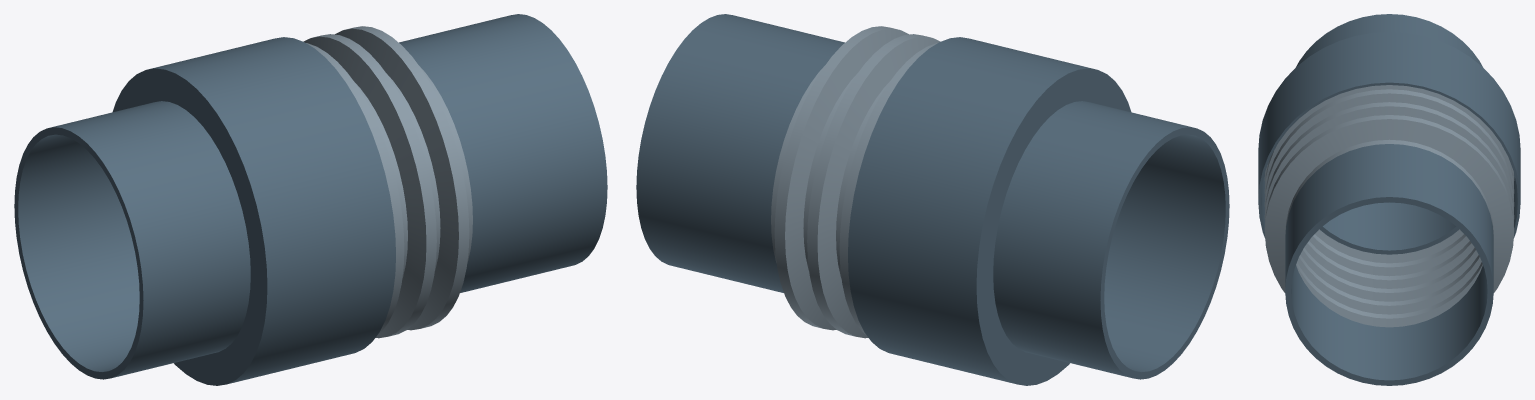
File: silf-dn150-L330-D159-k.glb
3 views of the same model, side by side, from view 1: azimuth 30°, elevation 25°; view 2: azimuth 150°, elevation 25°; view 3: azimuth 270°, elevation 25° (orthographic). The views are drawn at different scales.
Parts seen in each view (by area): view 1: patrubok_1, osnovanie_kozhuh_1, patrubok_2, prokladka_silfon_1; view 2: patrubok_1, osnovanie_kozhuh_1, patrubok_2, prokladka_silfon_1; view 3: prokladka_silfon_1, patrubok_2, osnovanie_kozhuh_1, patrubok_1.
Boxes of the visible parts, box(x1,y1,x2,y2) form: patrubok_1: box(14, 101, 250, 379); osnovanie_kozhuh_1: box(112, 37, 395, 385); patrubok_2: box(399, 14, 607, 292); prokladka_silfon_1: box(303, 26, 472, 338); patrubok_1: box(993, 101, 1229, 379); osnovanie_kozhuh_1: box(848, 37, 1131, 385); patrubok_2: box(636, 14, 844, 292); prokladka_silfon_1: box(771, 26, 940, 338); prokladka_silfon_1: box(1264, 85, 1514, 327); patrubok_2: box(1285, 144, 1493, 385); osnovanie_kozhuh_1: box(1258, 32, 1520, 238); patrubok_1: box(1296, 14, 1482, 254).
Bounding box in the file's own units: 330 × 200 × 200.
